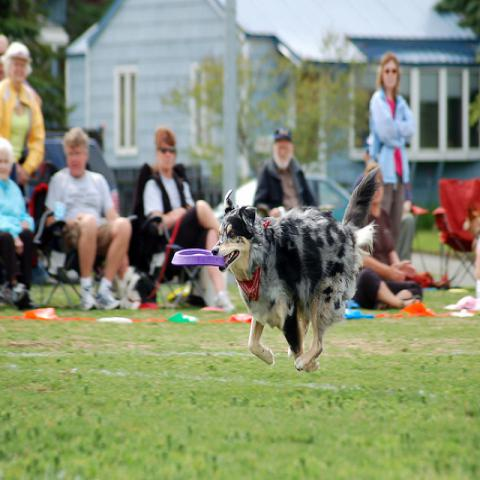car: (36, 135, 120, 218), (235, 174, 351, 222)
